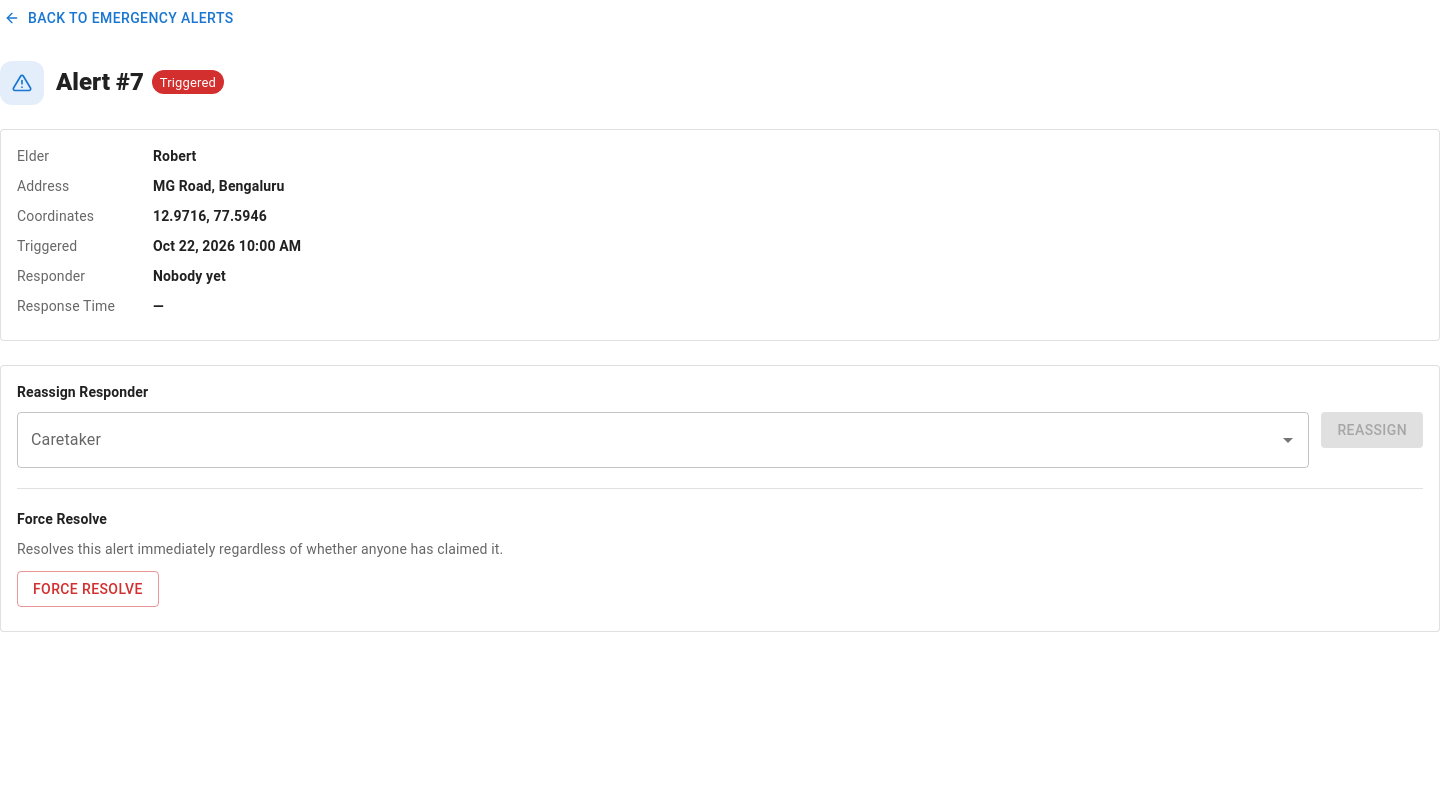
Test: Admin EmergencyAlertsForm.page › shows the backend's error message and stays on the page when the override fails
Expected: the heading "Alert #7" is shown, [56,66,144,98]
Click the button "Force Resolve".
click(88, 589)  # box [17,570,159,607]
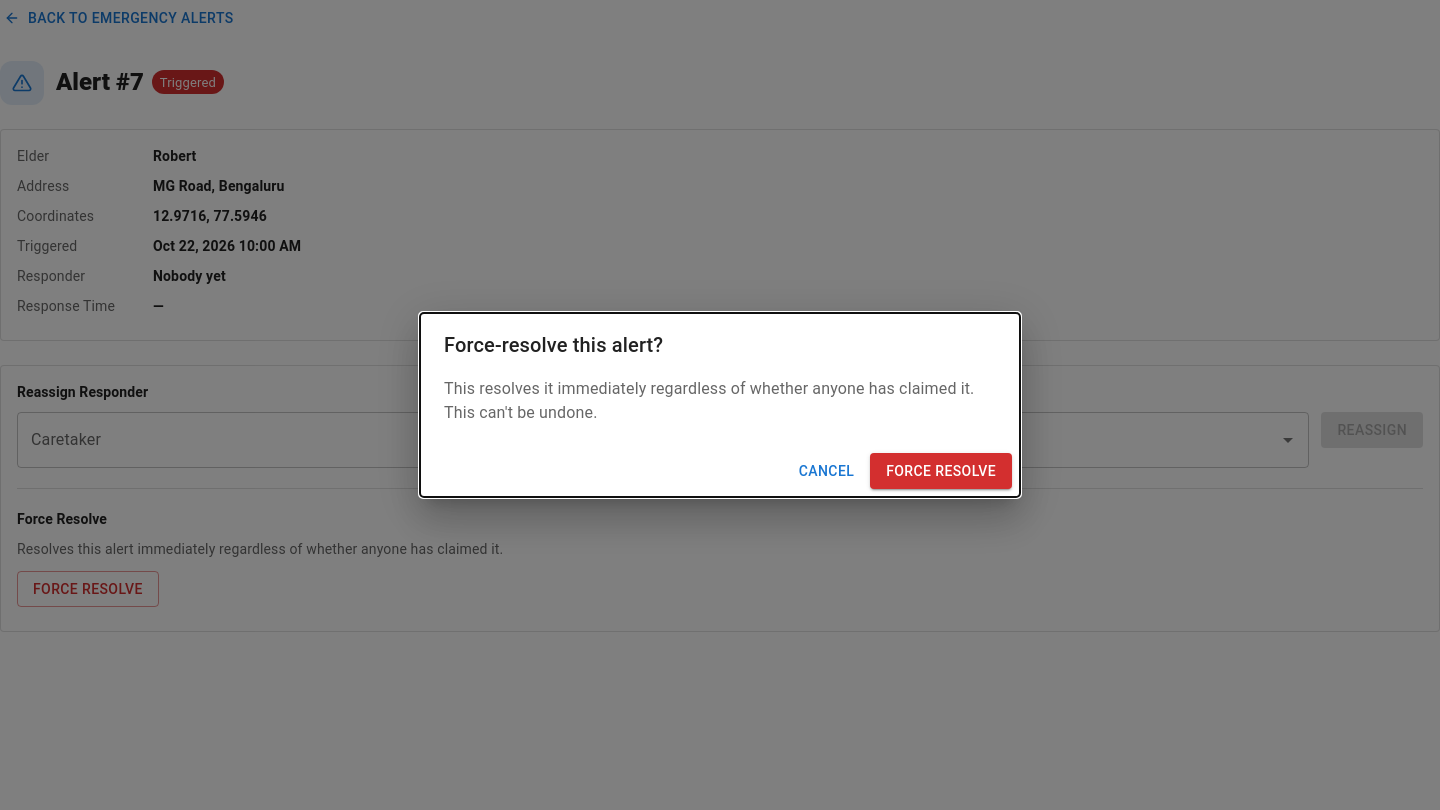
Click the button "Force Resolve".
click(941, 471)  # box [870,453,1012,489]
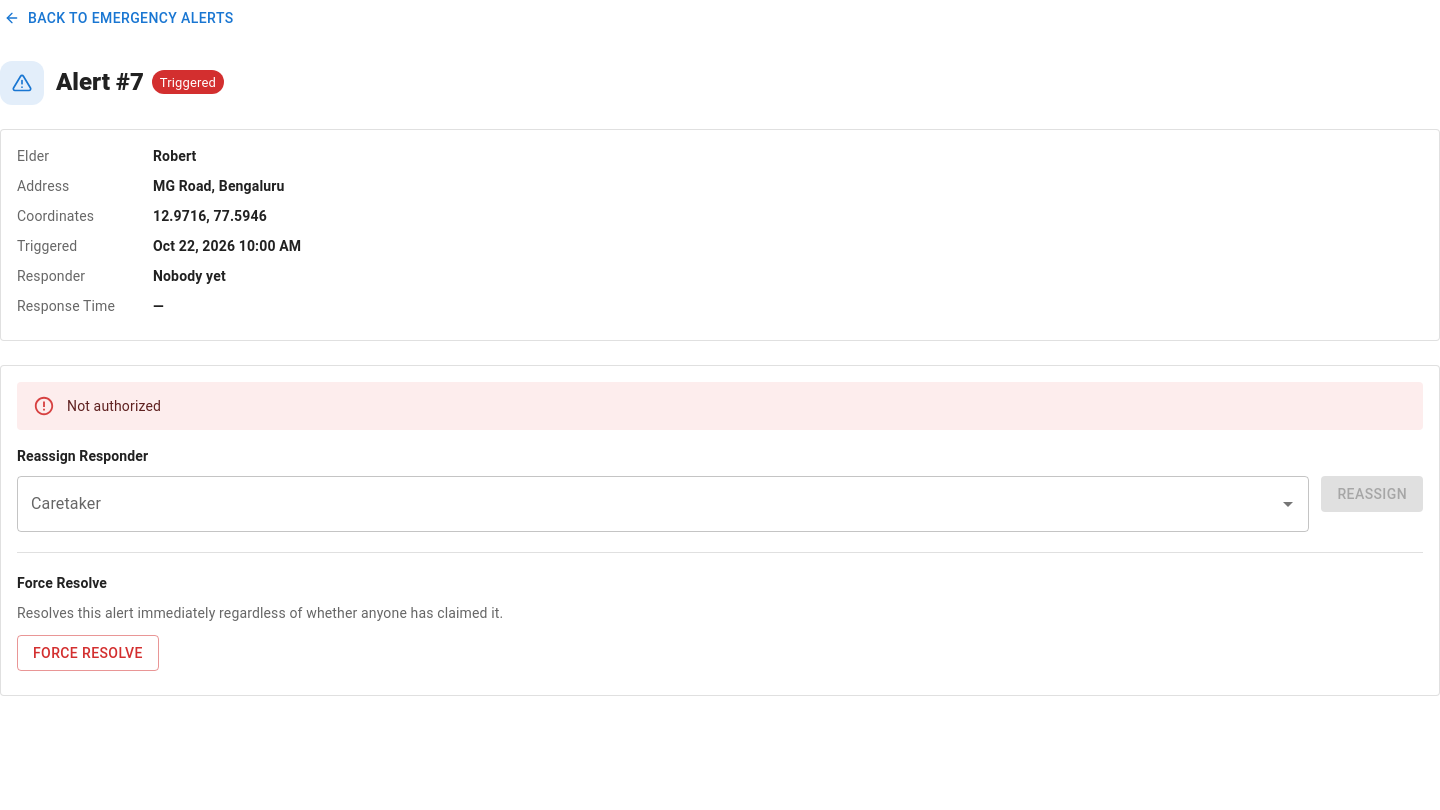
Result: the text "Not authorized" is shown at [67,398,161,414]
